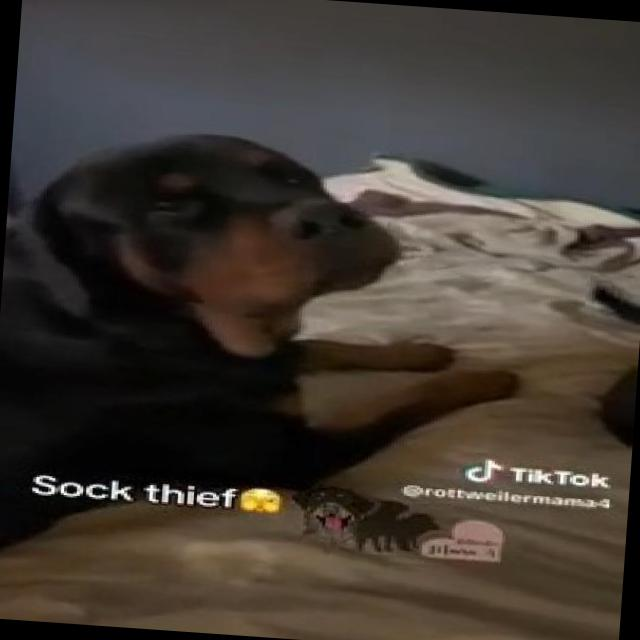dog: (38, 89, 533, 479)
